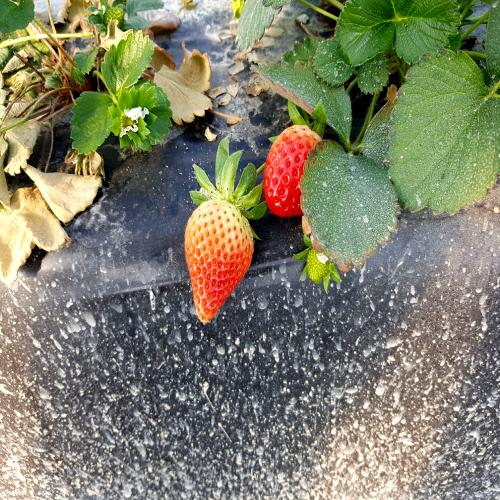partially-ripe: (182, 188, 256, 330)
ripe: (259, 104, 330, 233)
